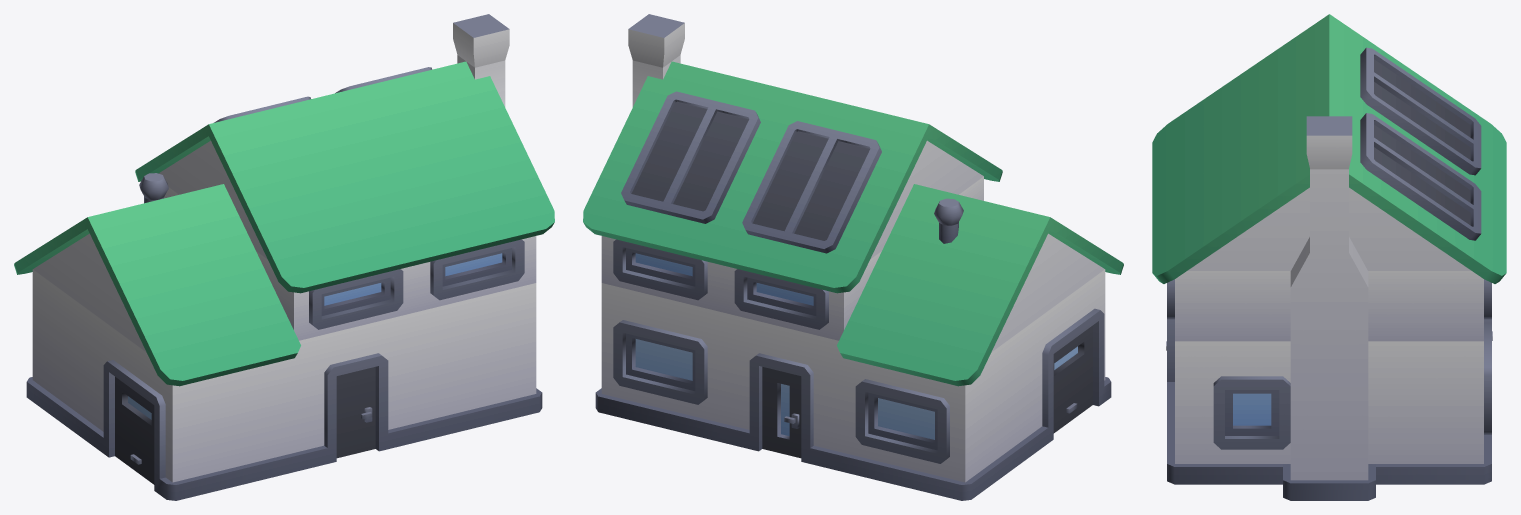
File: house_suburb_j.glb
3 renders of one model, left to right at view 1: azimuth 30°, elevation 25°; view 2: azimuth 150°, elevation 25°; view 3: azimuth 270°, elevation 25°, orthographic. The views are drawn at different scales.
Parts seen in each view (by area): view 1: building-type-j; view 2: building-type-j; view 3: building-type-j.
Part boxes in pixels (x1=…): building-type-j: x1=14, y1=14, x2=554, y2=500; building-type-j: x1=583, y1=14, x2=1123, y2=500; building-type-j: x1=1152, y1=14, x2=1506, y2=500.
Size of the model in its own units: 1.37 by 1.04 by 0.9161.
1 material, 1 textured.
